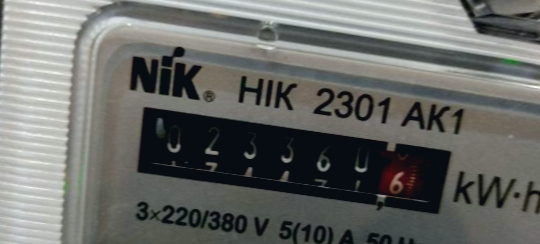0: (161, 118, 187, 153), (351, 140, 372, 173)
2: (199, 120, 227, 157)
3: (237, 125, 262, 160), (276, 130, 299, 163)
6: (311, 138, 335, 172), (384, 163, 409, 195)
screen: (114, 85, 467, 230)
